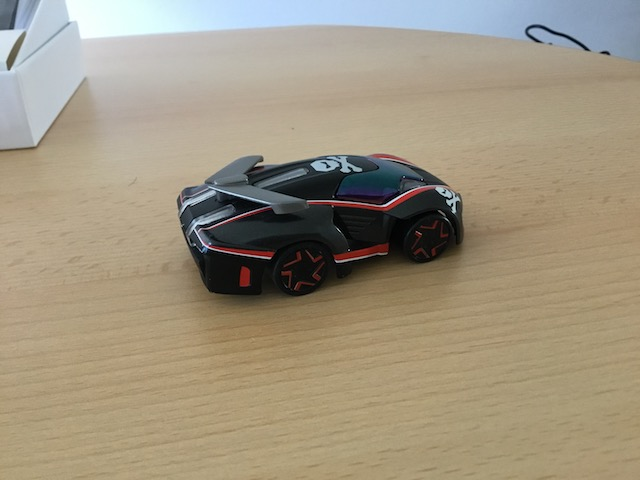car-red: (171, 148, 471, 302)
